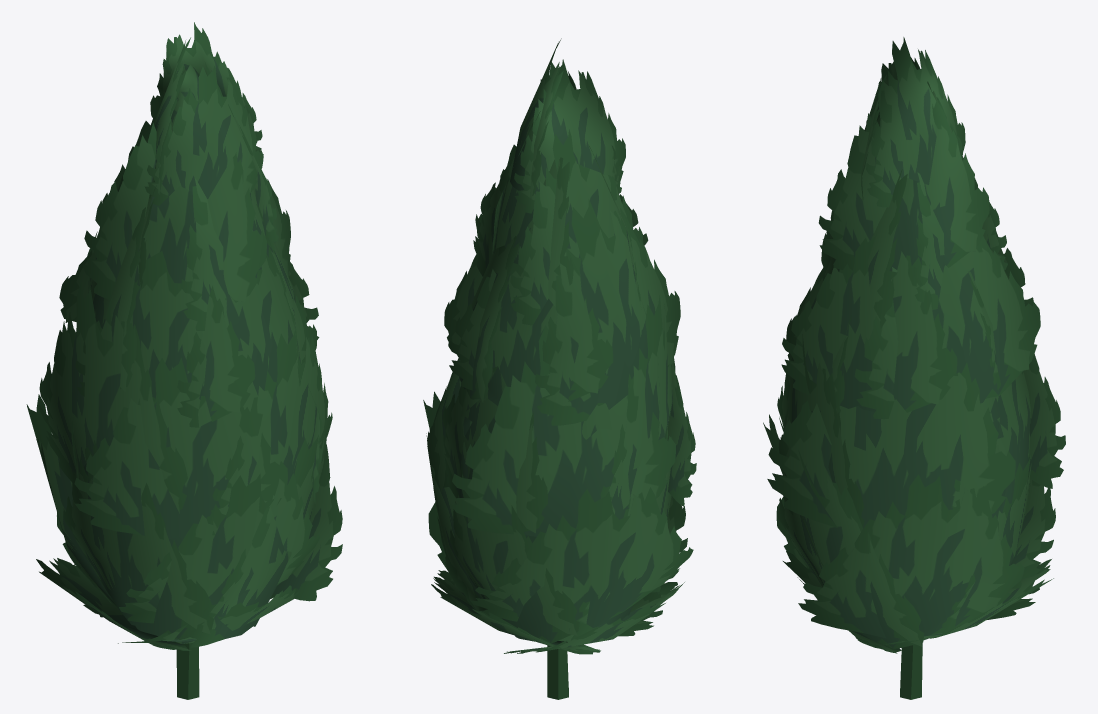
Rendered from SM_Env_Conifer_01.fbx.
3 views of the same model, side by side, from view 1: azimuth 30°, elevation 25°; view 2: azimuth 150°, elevation 25°; view 3: azimuth 270°, elevation 25° (orthographic). The views are drawn at different scales.
Parts seen in each view (by area): view 1: SM_Env_Conifer_01_LOD0; view 2: SM_Env_Conifer_01_LOD0; view 3: SM_Env_Conifer_01_LOD0.
Part boxes in pixels (box(x1,y1,x2,y2)): SM_Env_Conifer_01_LOD0: box(26, 22, 342, 699); SM_Env_Conifer_01_LOD0: box(423, 38, 696, 699); SM_Env_Conifer_01_LOD0: box(763, 37, 1065, 699).
Size of what is drawn, in the model's own units: 179 by 407 by 181.
